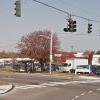Traffic light: (59, 11, 94, 43)
